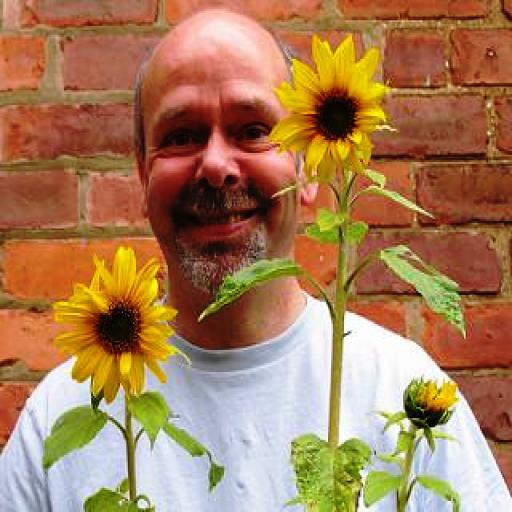sunflower: (51, 246, 171, 400), (277, 33, 387, 173)
